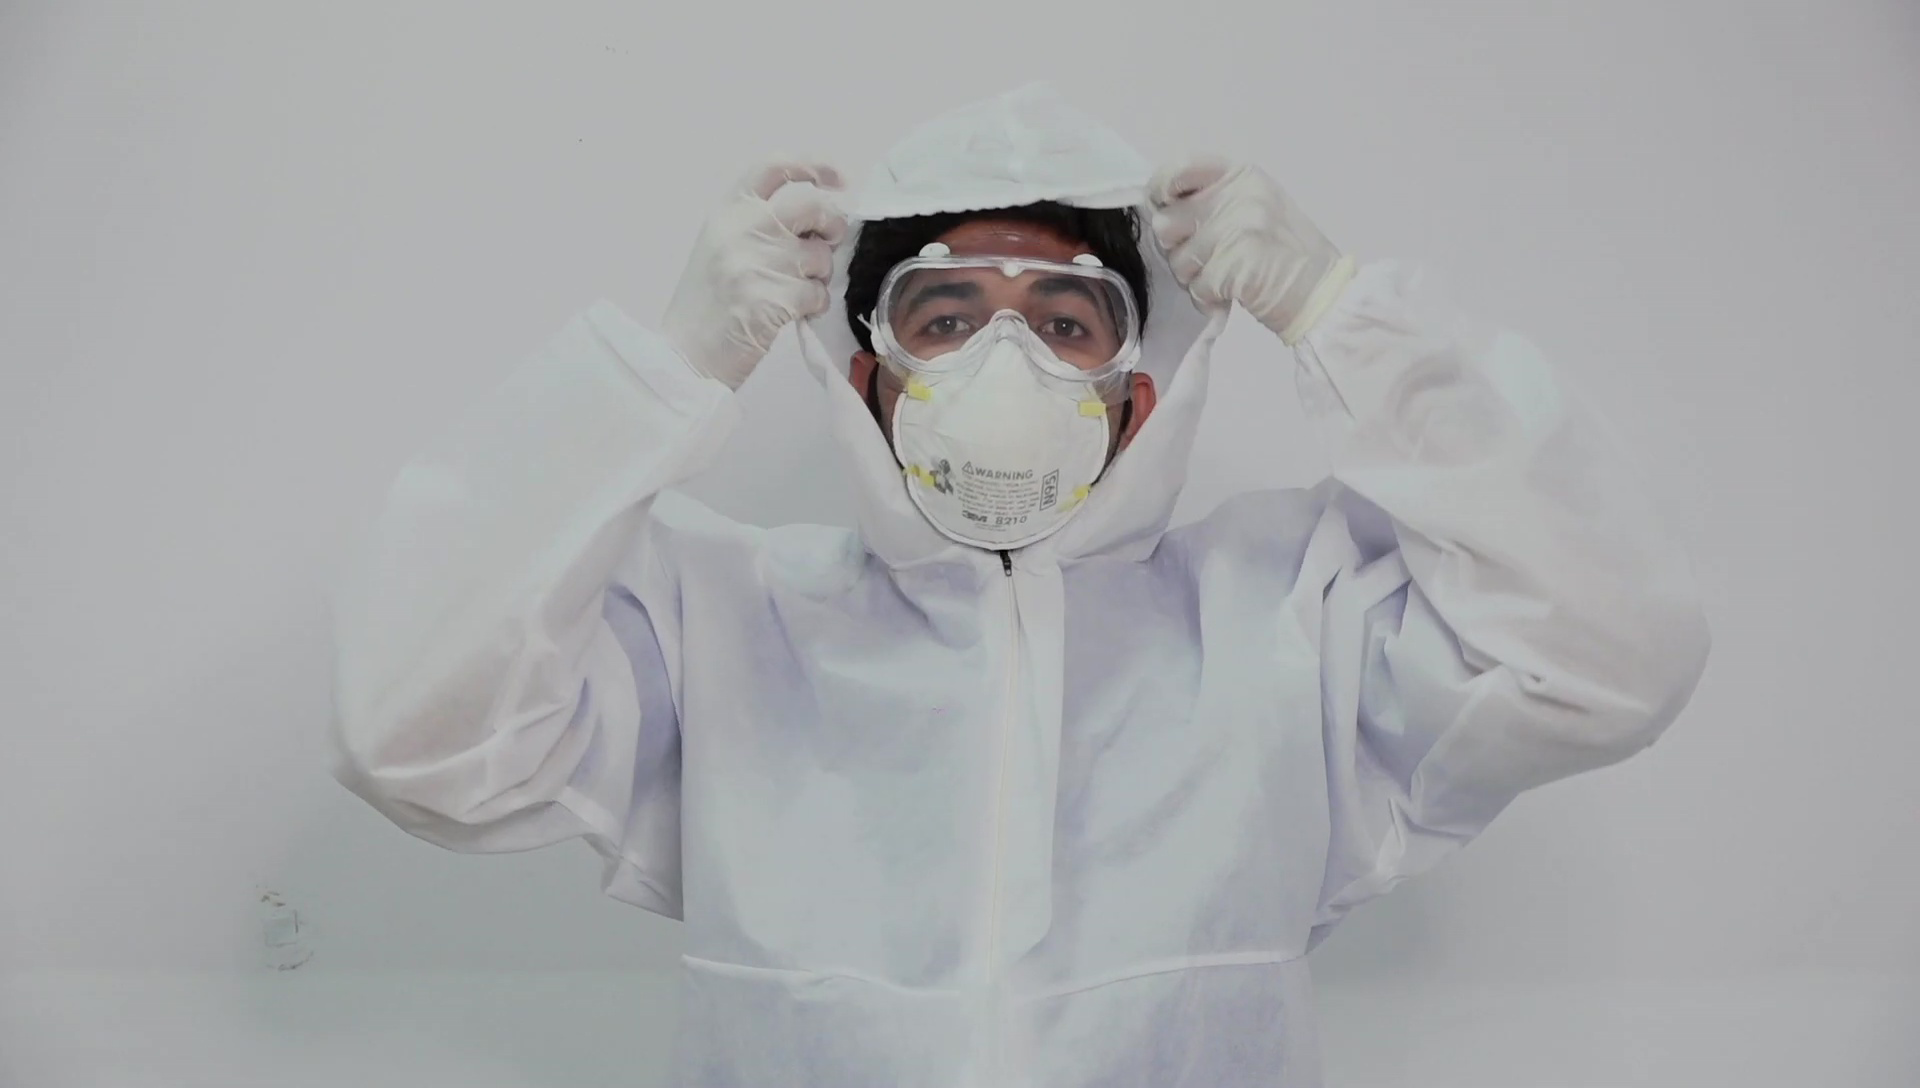Coverall: (320, 80, 1711, 1087)
Gloves: (655, 157, 850, 394), (1147, 153, 1350, 346)
Goggles: (869, 240, 1147, 404)
with_mask: (891, 319, 1109, 549)
